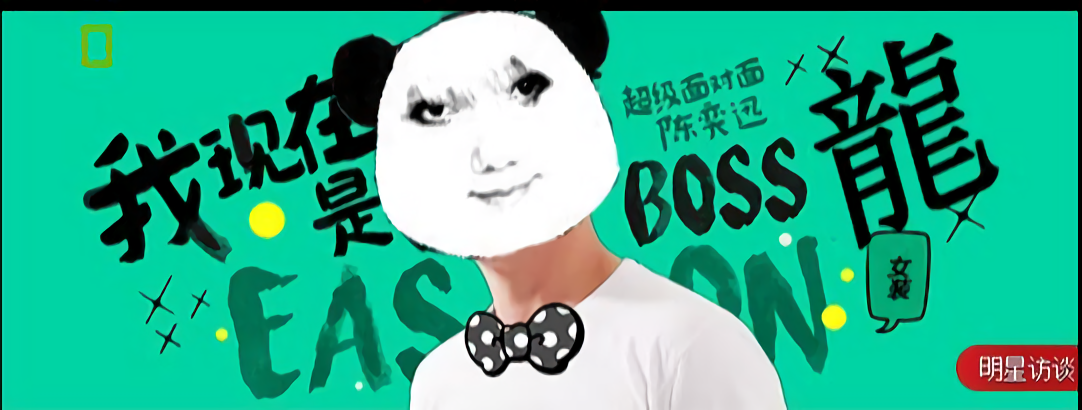dragon: (405, 62, 569, 214)
